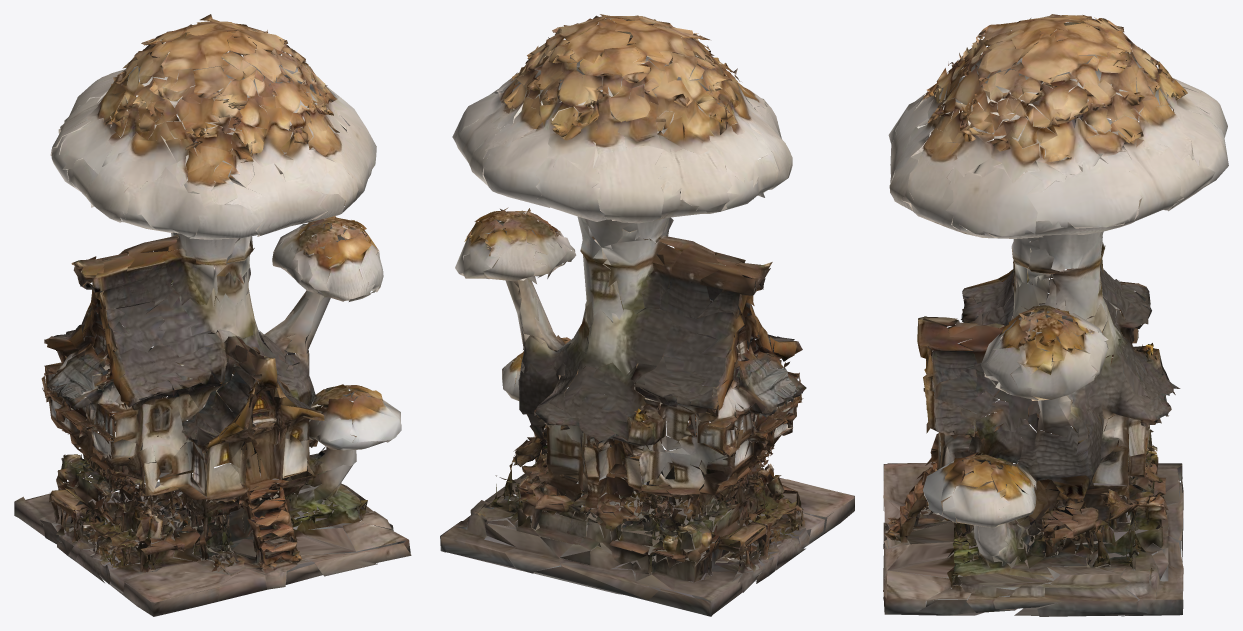
File: Toadstool_Tavern_town.glb
3 renders of one model, left to right at view 1: azimuth 30°, elevation 25°; view 2: azimuth 150°, elevation 25°; view 3: azimuth 270°, elevation 25°, orthographic. The views are drawn at different scales.
Parts seen in each view (by area): view 1: Toadstool_Tavern; view 2: Toadstool_Tavern; view 3: Toadstool_Tavern.
Boxes of the visible parts, x1,y1,x2,y2 form: Toadstool_Tavern: [14, 14, 411, 616]; Toadstool_Tavern: [440, 14, 854, 616]; Toadstool_Tavern: [883, 14, 1228, 616].
Bounding box in the file's own units: 1.34 × 2 × 1.18.
1 material, 1 textured.
